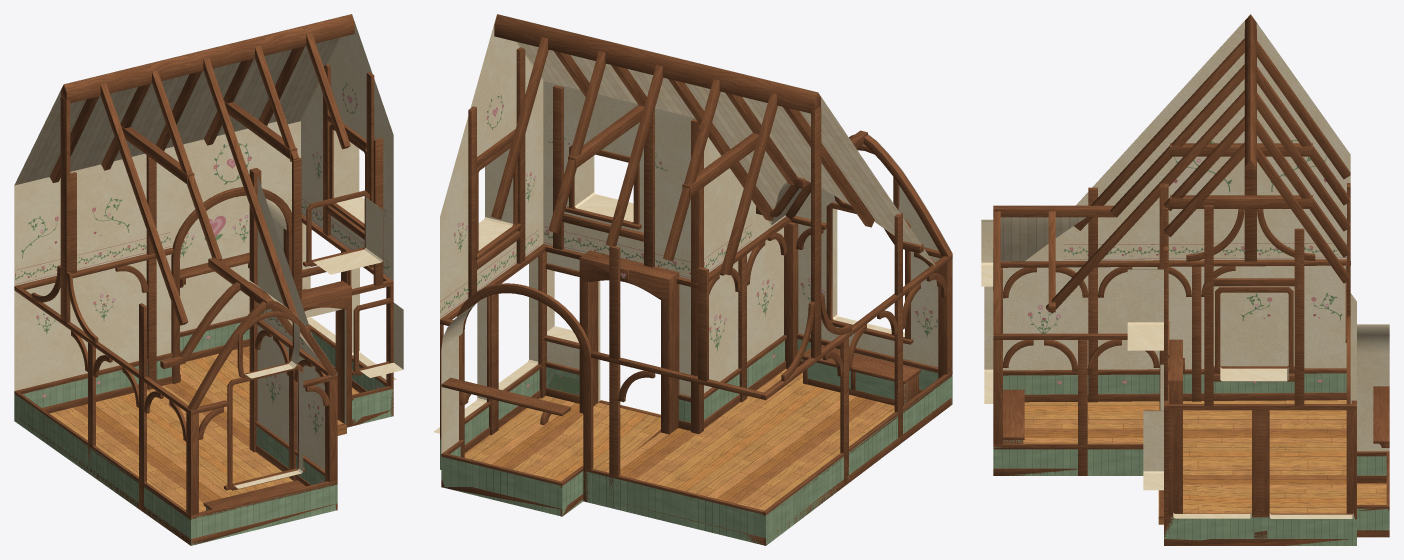
Rendered from house_c_lining.glb.
3 views of the same model, side by side, from view 1: azimuth 30°, elevation 25°; view 2: azimuth 150°, elevation 25°; view 3: azimuth 270°, elevation 25° (orthographic). The views are drawn at different scales.
Visible parts, largest first — view 1: Architecture_Timber, Architecture_Walls, Architecture_Floor, Architecture_Wainscot, Architecture_Ceiling, Architecture_Decals; view 2: Architecture_Timber, Architecture_Walls, Architecture_Floor, Architecture_Wainscot, Architecture_Ceiling, Architecture_ThresholdRamp, Architecture_Decals; view 3: Architecture_Timber, Architecture_Walls, Architecture_Floor, Architecture_Wainscot, Architecture_Ceiling, Architecture_Decals, Architecture_ThresholdRamp.
Boxes of the visible parts, x1=… form: Architecture_Timber: x1=14, y1=14, x2=393, y2=545; Architecture_Walls: x1=14, y1=14, x2=403, y2=488; Architecture_Floor: x1=49, y1=346, x2=359, y2=512; Architecture_Wainscot: x1=14, y1=322, x2=393, y2=545; Architecture_Ceiling: x1=14, y1=14, x2=351, y2=373; Architecture_Decals: x1=15, y1=82, x2=388, y2=482; Architecture_Timber: x1=440, y1=14, x2=952, y2=545; Architecture_Walls: x1=433, y1=15, x2=952, y2=453; Architecture_Floor: x1=464, y1=369, x2=894, y2=510; Architecture_Wainscot: x1=440, y1=339, x2=952, y2=545; Architecture_Ceiling: x1=497, y1=14, x2=935, y2=265; Architecture_ThresholdRamp: x1=559, y1=400, x2=660, y2=453; Architecture_Decals: x1=440, y1=95, x2=938, y2=388; Architecture_Timber: x1=993, y1=14, x2=1389, y2=545; Architecture_Walls: x1=981, y1=14, x2=1389, y2=518; Architecture_Floor: x1=1023, y1=400, x2=1386, y2=513; Architecture_Wainscot: x1=993, y1=373, x2=1389, y2=545; Architecture_Ceiling: x1=1000, y1=217, x2=1086, y2=261; Architecture_Decals: x1=1028, y1=140, x2=1346, y2=385; Architecture_ThresholdRamp: x1=1158, y1=484, x2=1236, y2=524.
Size of what is drawn, in the model's own units: 5.52 by 6.29 by 5.97.
Materials: 6 (6 with a texture image).
